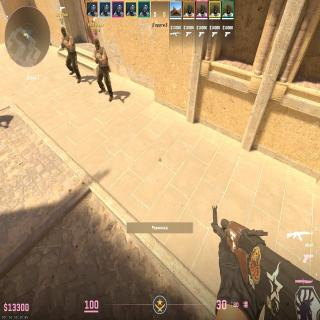T-Body: (93, 38, 113, 102), (60, 26, 81, 83)
T-Head: (94, 39, 100, 50), (61, 27, 66, 36)
